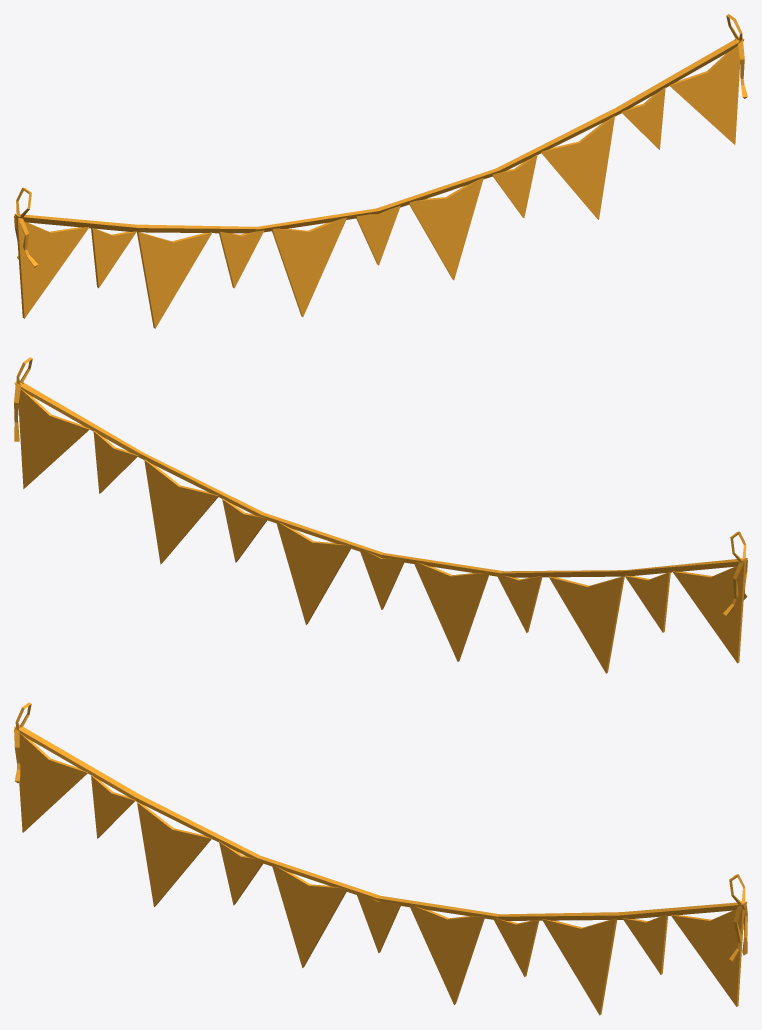
The model's file is SM_Garland_Triangles_2m_4july.fbx.
3 views of the same model, one above another, from view 1: azimuth 30°, elevation 25°; view 2: azimuth 150°, elevation 25°; view 3: azimuth 330°, elevation 25° (orthographic).
Visible parts, largest first — view 1: garland-triangles-2m-4july; view 2: garland-triangles-2m-4july; view 3: garland-triangles-2m-4july.
Part boxes in pixels (left/top/right/bottom): garland-triangles-2m-4july: left=14, top=14, right=747, bottom=328; garland-triangles-2m-4july: left=14, top=357, right=747, bottom=673; garland-triangles-2m-4july: left=14, top=702, right=747, bottom=1015.
Size of the model in its own units: 2 by 0.5155 by 0.092.
